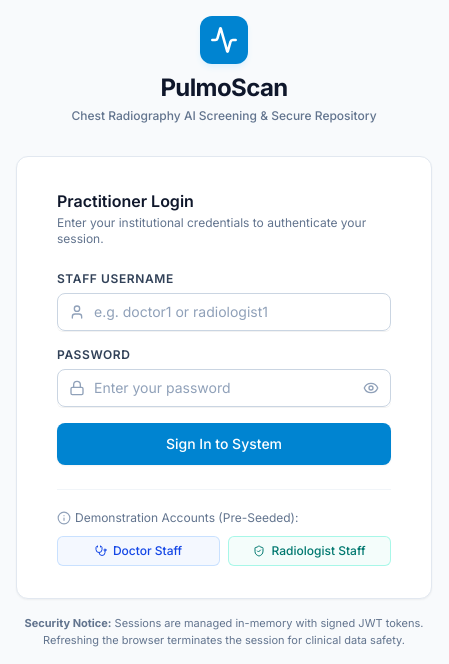
Test: LoginPage › populates fields when demo credentials button is clicked
Click the button "Doctor Staff": (138, 551) [57,536,220,566]
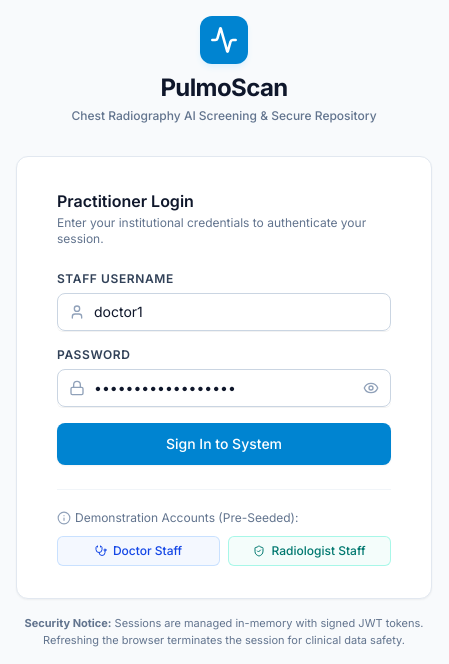
Check: the field labelled "Staff Username" holds "doctor1", box [57,293,391,331]
Check: the password field labelled "Password" holds "DoctorPassword123!", box [57,369,391,407]
